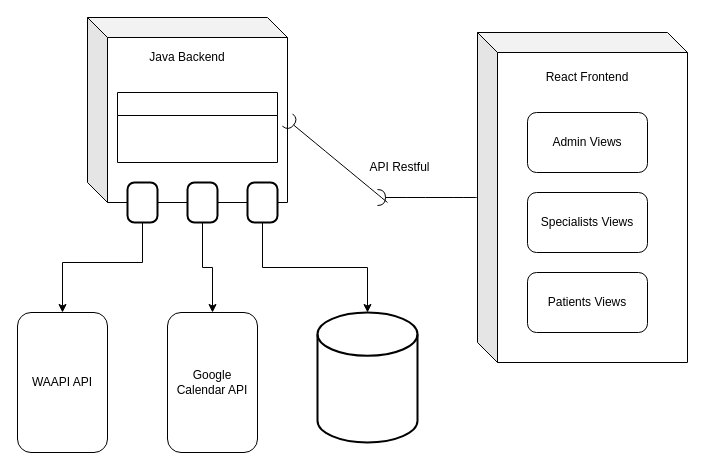
The diagram is 705 pixels wide and 470 high, and some of its shapes have lost their labels. Each missing label, with the box of its shape:
Postgress Database: (316, 311, 418, 443)
Wellness Controller: (116, 92, 278, 162)
